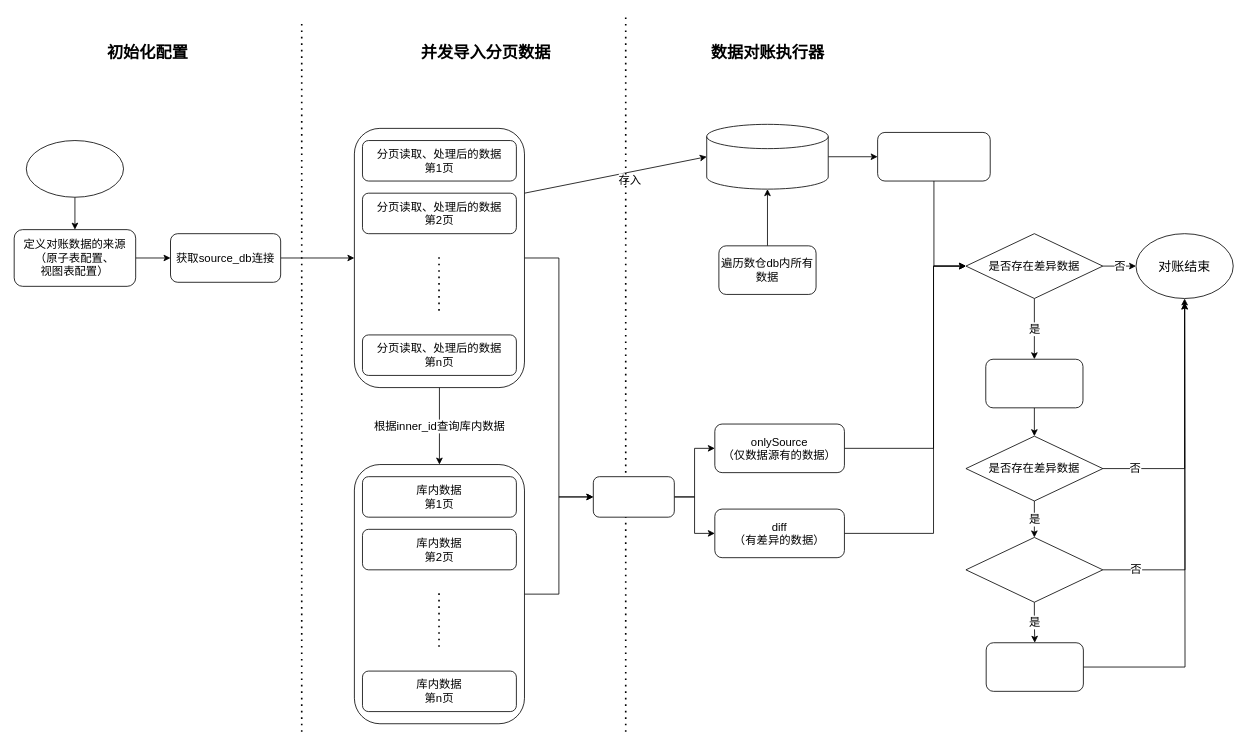
Image size: 1247x747. Some labels were removed from this diagram. The centre of each missing label's shape, as x and y in pixels:
doubleCheck: (1034,383)
onlyDb （仅库内有的数据）: (933,156)
对账执行器: (633,496)
布隆过滤器: (767,156)
开始: (75,168)
数据订正: (1034,666)
是否需要数据订正: (1034,569)
